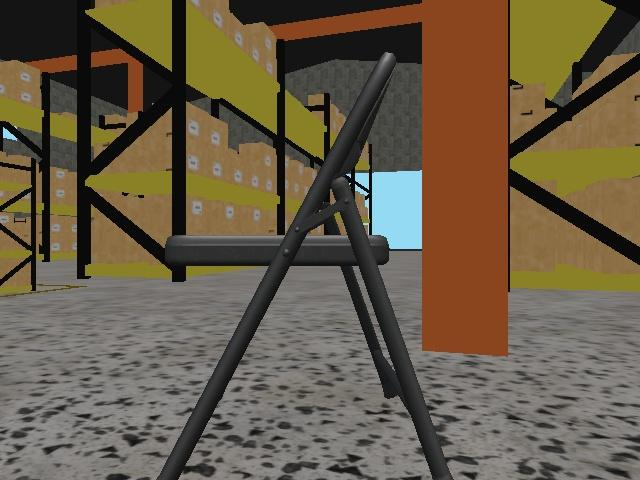chair: (153, 44, 457, 480)
